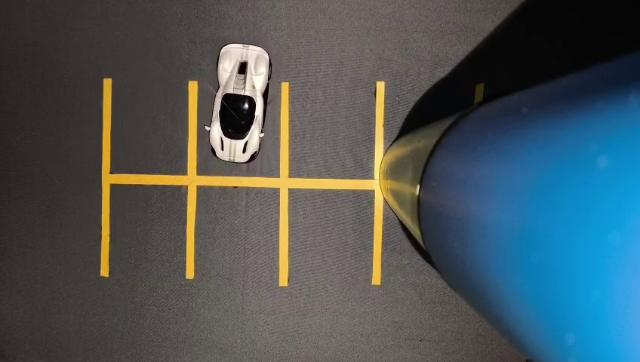toy_car: (187, 29, 290, 181)
